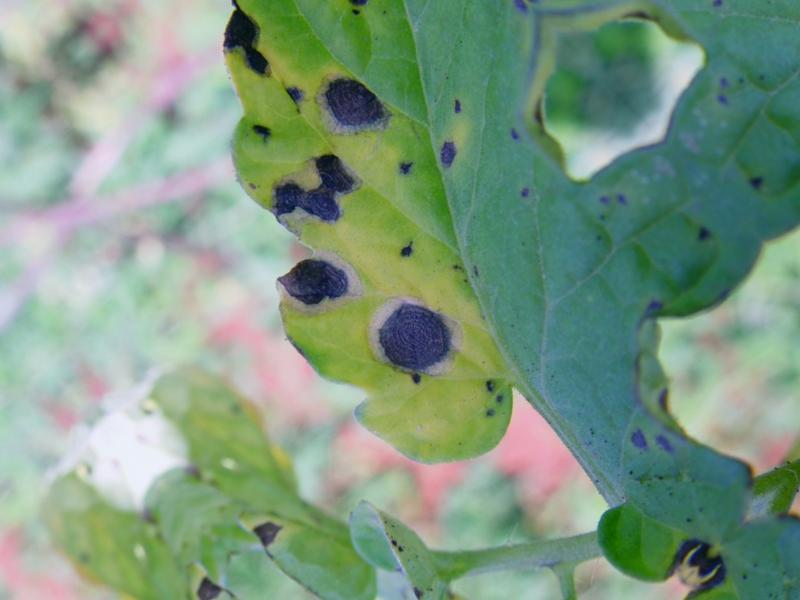Tomato Early blight leaf: (36, 0, 800, 600), (231, 465, 394, 600)
